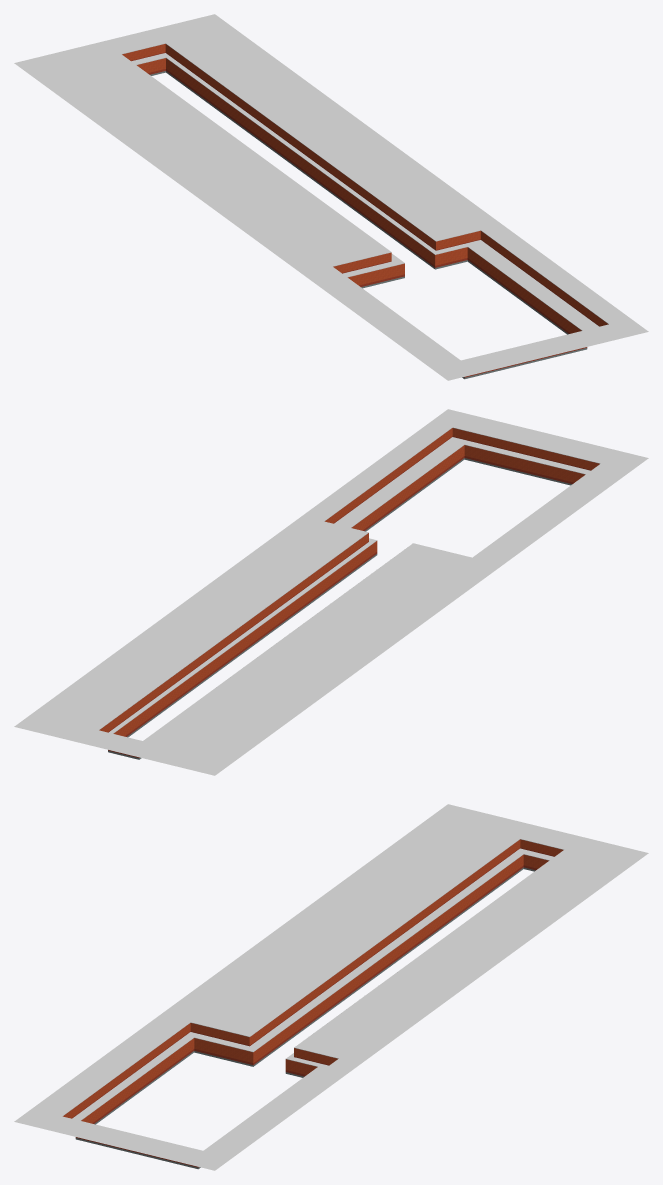
Rendered from Walls.fbx.
3 views of the same model, one above another, from view 1: azimuth 30°, elevation 25°; view 2: azimuth 150°, elevation 25°; view 3: azimuth 330°, elevation 25° (orthographic).
Visible parts, largest first — view 1: Walls_Terrain; view 2: Walls_Terrain; view 3: Walls_Terrain.
Boxes of the visible parts, x1,y1,x2,y2 form: Walls_Terrain: (14, 14, 648, 380); Walls_Terrain: (14, 409, 648, 775); Walls_Terrain: (14, 804, 648, 1170).
Bounding box in the file's own units: 309 × 36 × 1156.
